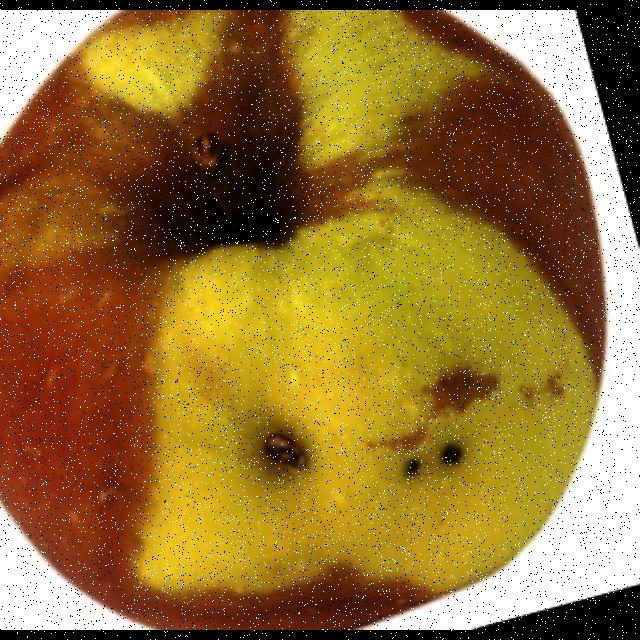Apel Tidak Segar: (0, 10, 611, 631)
